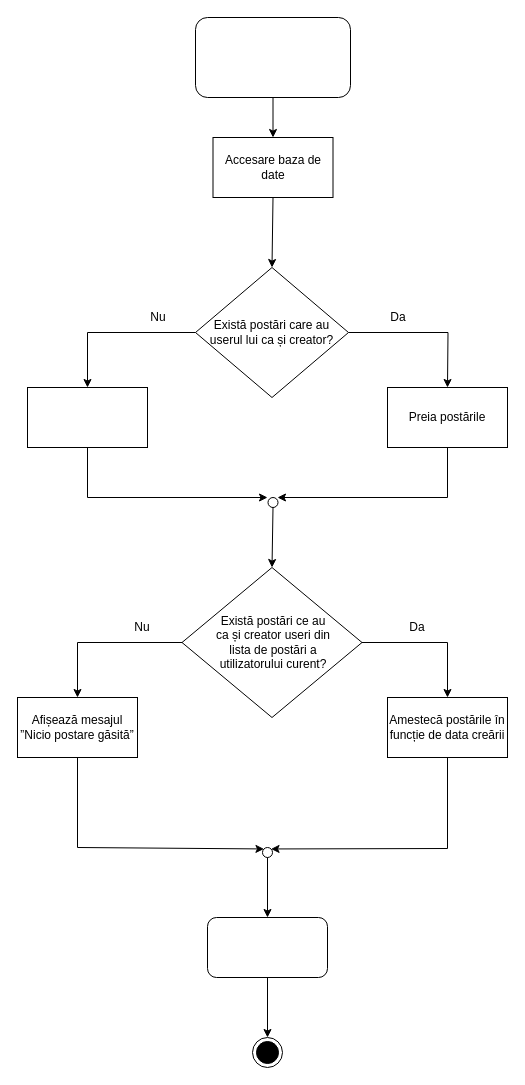
This 525x1085 diagram has some shape labels left out. The centre of each missing label's shape, as x and y in pixels:
Nu preia nicio postare: point 87,417
START Afișare pagină Home: point 272,57
STOP Afișare pagină de feed a contului logat: point 267,947
